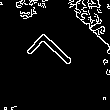L_SE: (24, 30, 82, 87)
